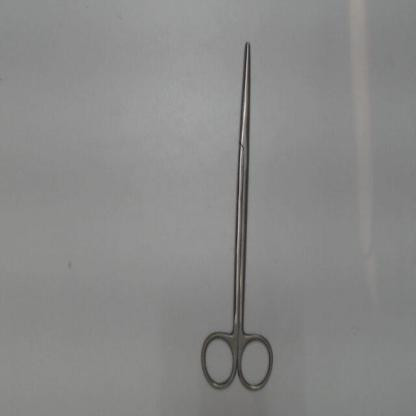9 Metzenbaum Scissors: (194, 35, 277, 400)
